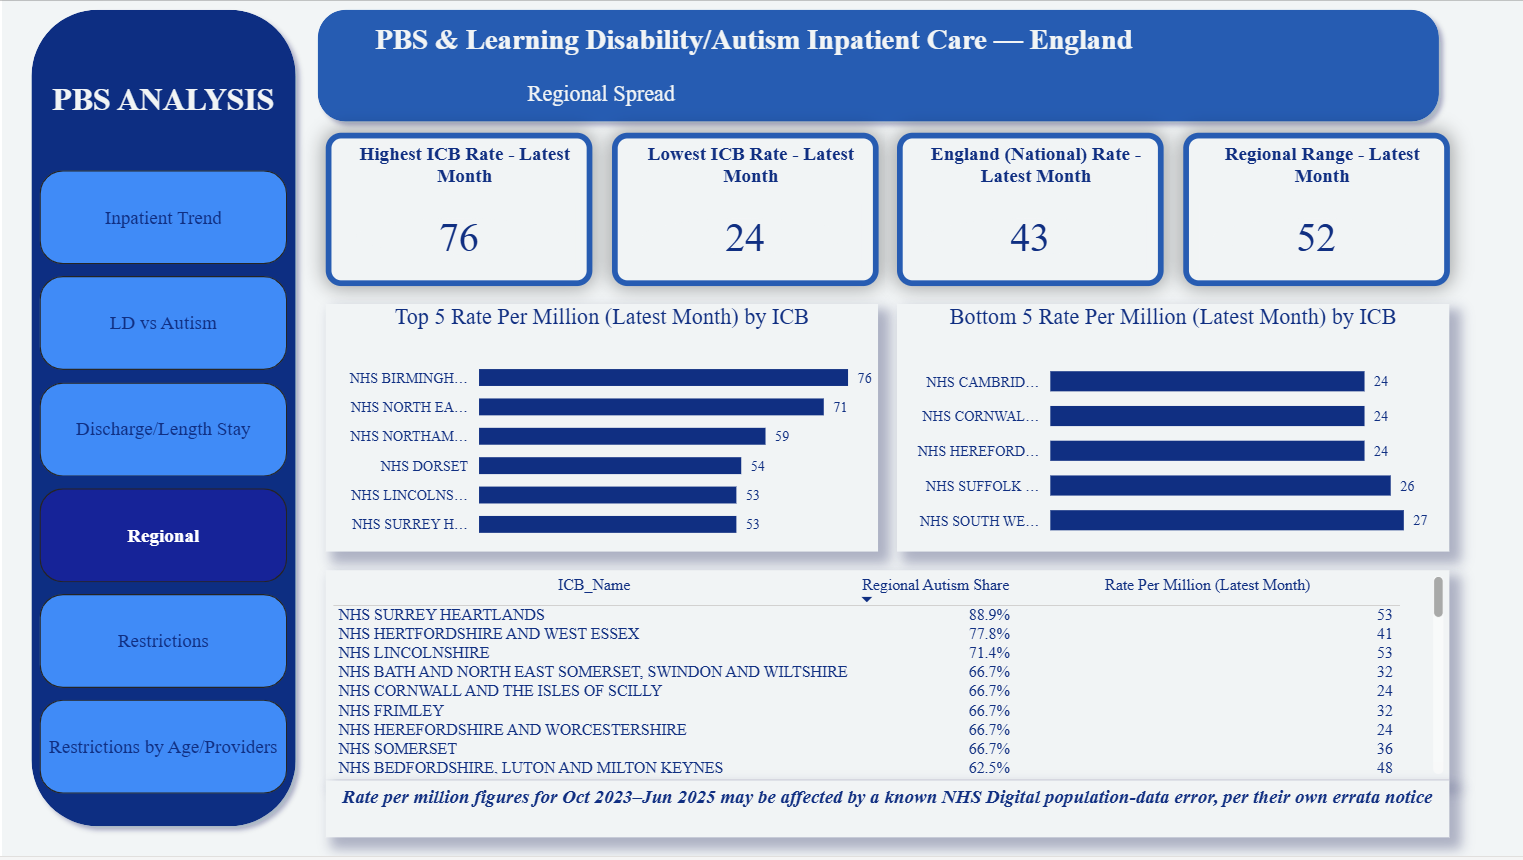

Layout of this report page (visuals, bound fields, positions):
{"tool":"powerbi","page":{"name":"Regional","canvas":[1280,720],"ordinal":3},"visuals":[{"type":"shape","box":[256,0,960,112],"z":0},{"type":"shape","box":[16,0,240,704],"z":1000},{"type":"textbox","box":[288,16,688,48],"z":2000},{"type":"cardVisual","title":"Highest ICB Rate - Latest Month","fields":{"Data":["_Measures.Highest ICB Rate (Latest Month)"]},"box":[272,112,224,129],"z":3000},{"type":"cardVisual","title":"Lowest ICB Rate - Latest Month","fields":{"Data":["_Measures.Lowest ICB Rate (Latest Month)"]},"box":[512,112,224,129],"z":4000},{"type":"cardVisual","title":"England (National) Rate - Latest Month","fields":{"Data":["_Measures.England Rate (Latest Month)"]},"box":[752,112,224,129],"z":5000},{"type":"cardVisual","title":"Regional Range - Latest Month","fields":{"Data":["_Measures.Regional Range (Latest Month)"]},"box":[992,112,224,129],"z":6000},{"type":"textbox","box":[304,64,400,32],"z":7000},{"type":"clusteredBarChart","title":"Top 5 Rate Per Million (Latest Month) by ICB","fields":{"Category":["Dim_ICB.ICB_Name"],"Y":["_Measures.Rate Per Million (Latest Month)"]},"box":[272,256,464,208],"z":8000},{"type":"clusteredBarChart","title":"Bottom 5 Rate Per Million (Latest Month) by ICB","fields":{"Category":["Dim_ICB.ICB_Name"],"Y":["_Measures.Rate Per Million (Latest Month)"]},"box":[752,256,464,208],"z":9000},{"type":"tableEx","fields":{"Values":["Dim_ICB.ICB_Name","_Measures.Regional Autism Share","_Measures.Rate Per Million (Latest Month)"]},"box":[272,480,944,176],"z":10000},{"type":"textbox","box":[272,656,944,48],"z":11000},{"type":"pageNavigator","box":[32,144,208,528],"z":12000},{"type":"textbox","box":[32,64,208,64],"z":12001}]}

Visuals, with their boxes in screenshot pixels (x1, y1, x2, y2), scaled from the page's 1280x720 canvas onto the 1523x860 screenshot:
shape: box=[305, 0, 1447, 134]
shape: box=[19, 0, 305, 841]
textbox: box=[343, 19, 1161, 76]
"Highest ICB Rate - Latest Month" cardVisual: box=[324, 134, 590, 288]
"Lowest ICB Rate - Latest Month" cardVisual: box=[609, 134, 876, 288]
"England (National) Rate - Latest Month" cardVisual: box=[895, 134, 1161, 288]
"Regional Range - Latest Month" cardVisual: box=[1180, 134, 1447, 288]
textbox: box=[362, 76, 838, 115]
"Top 5 Rate Per Million (Latest Month) by ICB" clusteredBarChart: box=[324, 306, 876, 554]
"Bottom 5 Rate Per Million (Latest Month) by ICB" clusteredBarChart: box=[895, 306, 1447, 554]
tableEx - Dim_ICB.ICB_Name x _Measures.Regional Autism Share: box=[324, 573, 1447, 784]
textbox: box=[324, 784, 1447, 841]
pageNavigator: box=[38, 172, 286, 803]
textbox: box=[38, 76, 286, 153]
